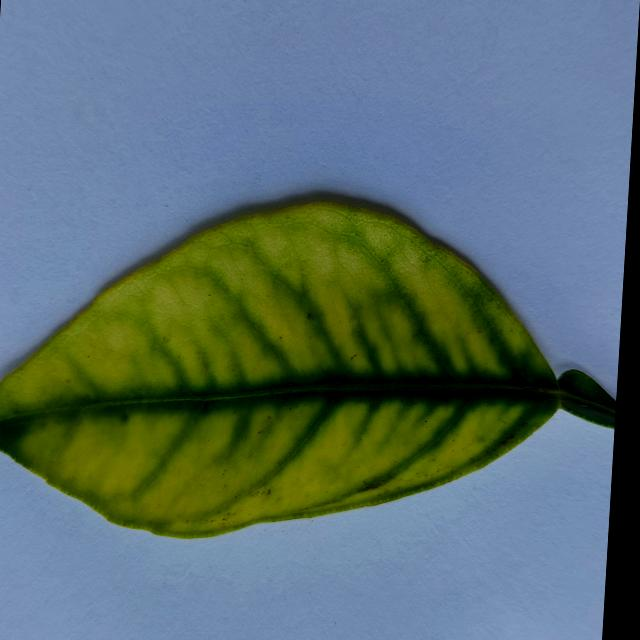greening: (0, 204, 561, 537)
